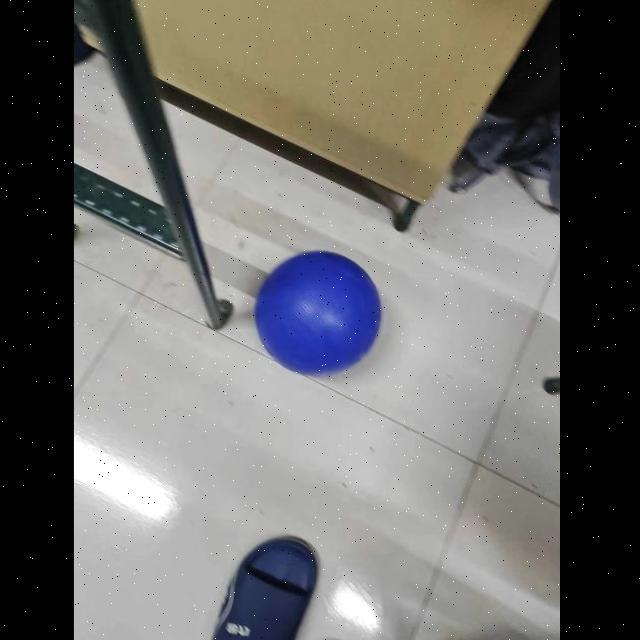B: (252, 247, 386, 379)
